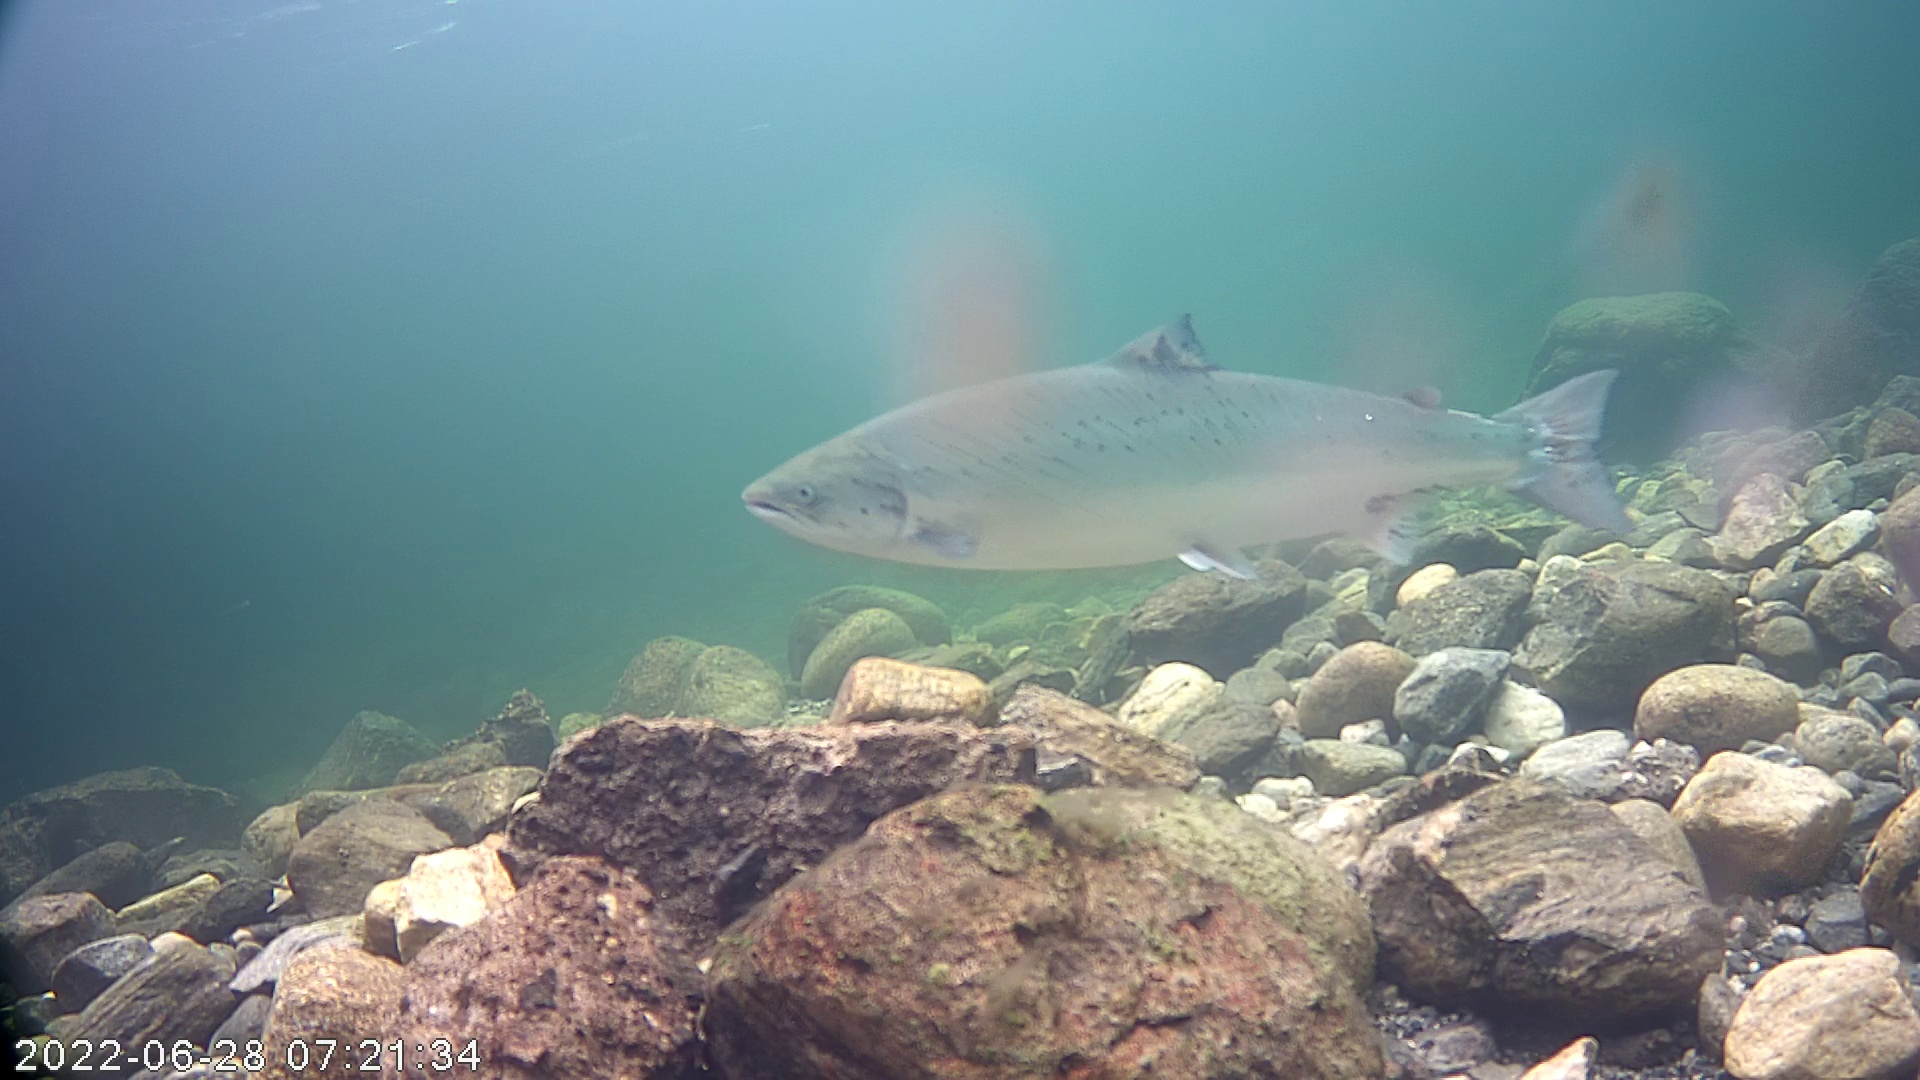salmon: (723, 232, 1654, 618)
